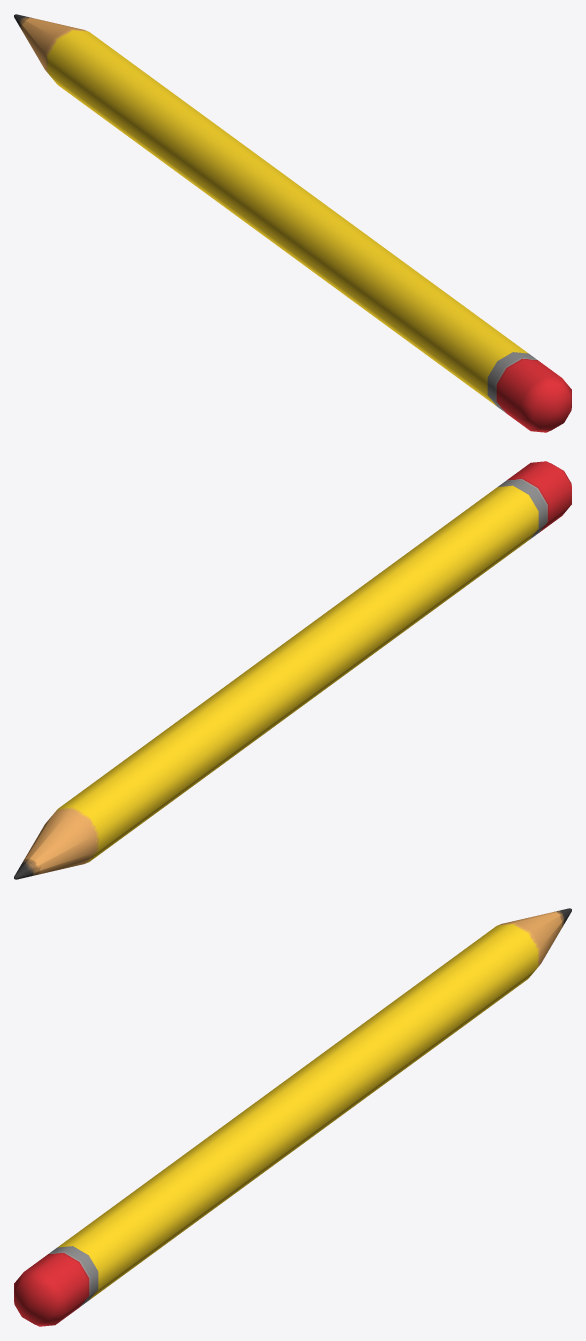
The model's file is pencil.fbx.
3 renders of one model, top to bottom at view 1: azimuth 30°, elevation 25°; view 2: azimuth 150°, elevation 25°; view 3: azimuth 330°, elevation 25°, orthographic.
Visible parts, largest first — view 1: pencil; view 2: pencil; view 3: pencil.
Boxes of the visible parts, x1,y1,x2,y2 form: pencil: (14, 14, 571, 432); pencil: (14, 461, 571, 879); pencil: (14, 908, 571, 1326).
Bounding box in the file's own units: 0.00957 × 0.0101 × 0.1759.
